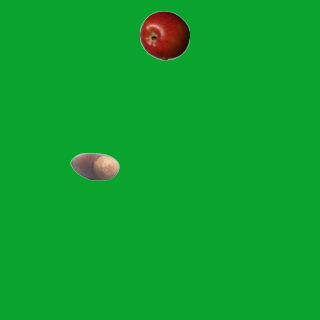Apple Braeburn: (139, 10, 189, 60)
Hazelnut: (69, 141, 119, 191)
